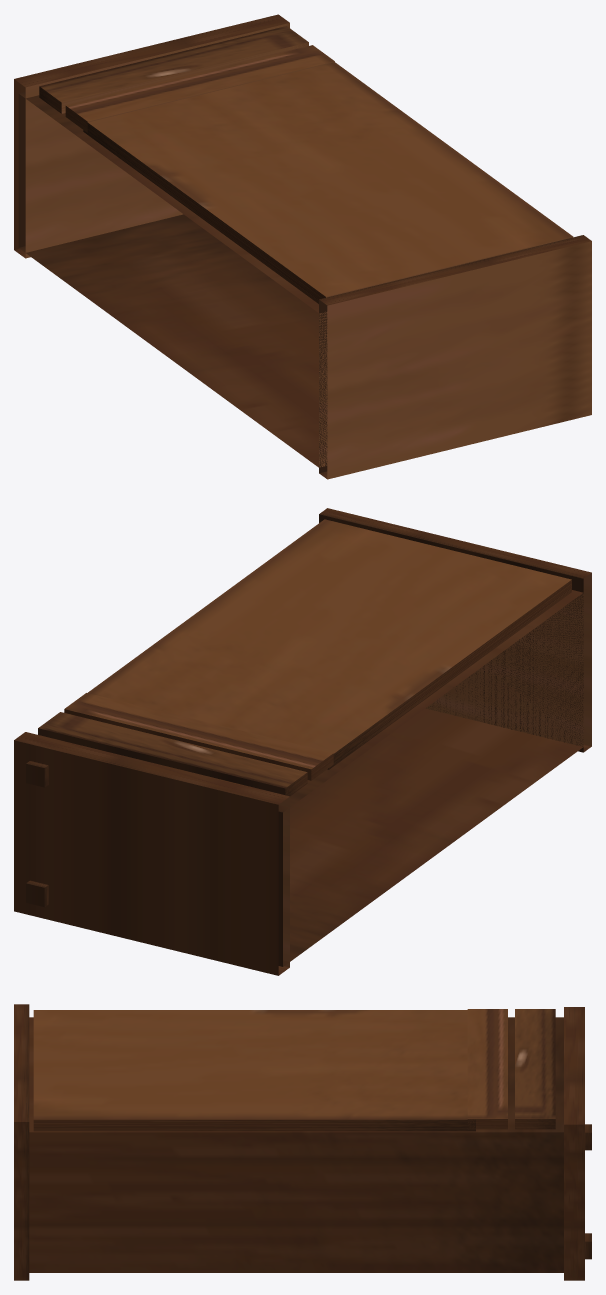
Rendered from pz_wardrobe_storage_01_oak_1_0.obj.
3 views of the same model, one above another, from view 1: azimuth 30°, elevation 25°; view 2: azimuth 150°, elevation 25°; view 3: azimuth 270°, elevation 25° (orthographic). The views are drawn at different scales.
Size of the model in its own units: 0.995 by 0.625 by 2.07.
Materials: 1 (1 with a texture image).
